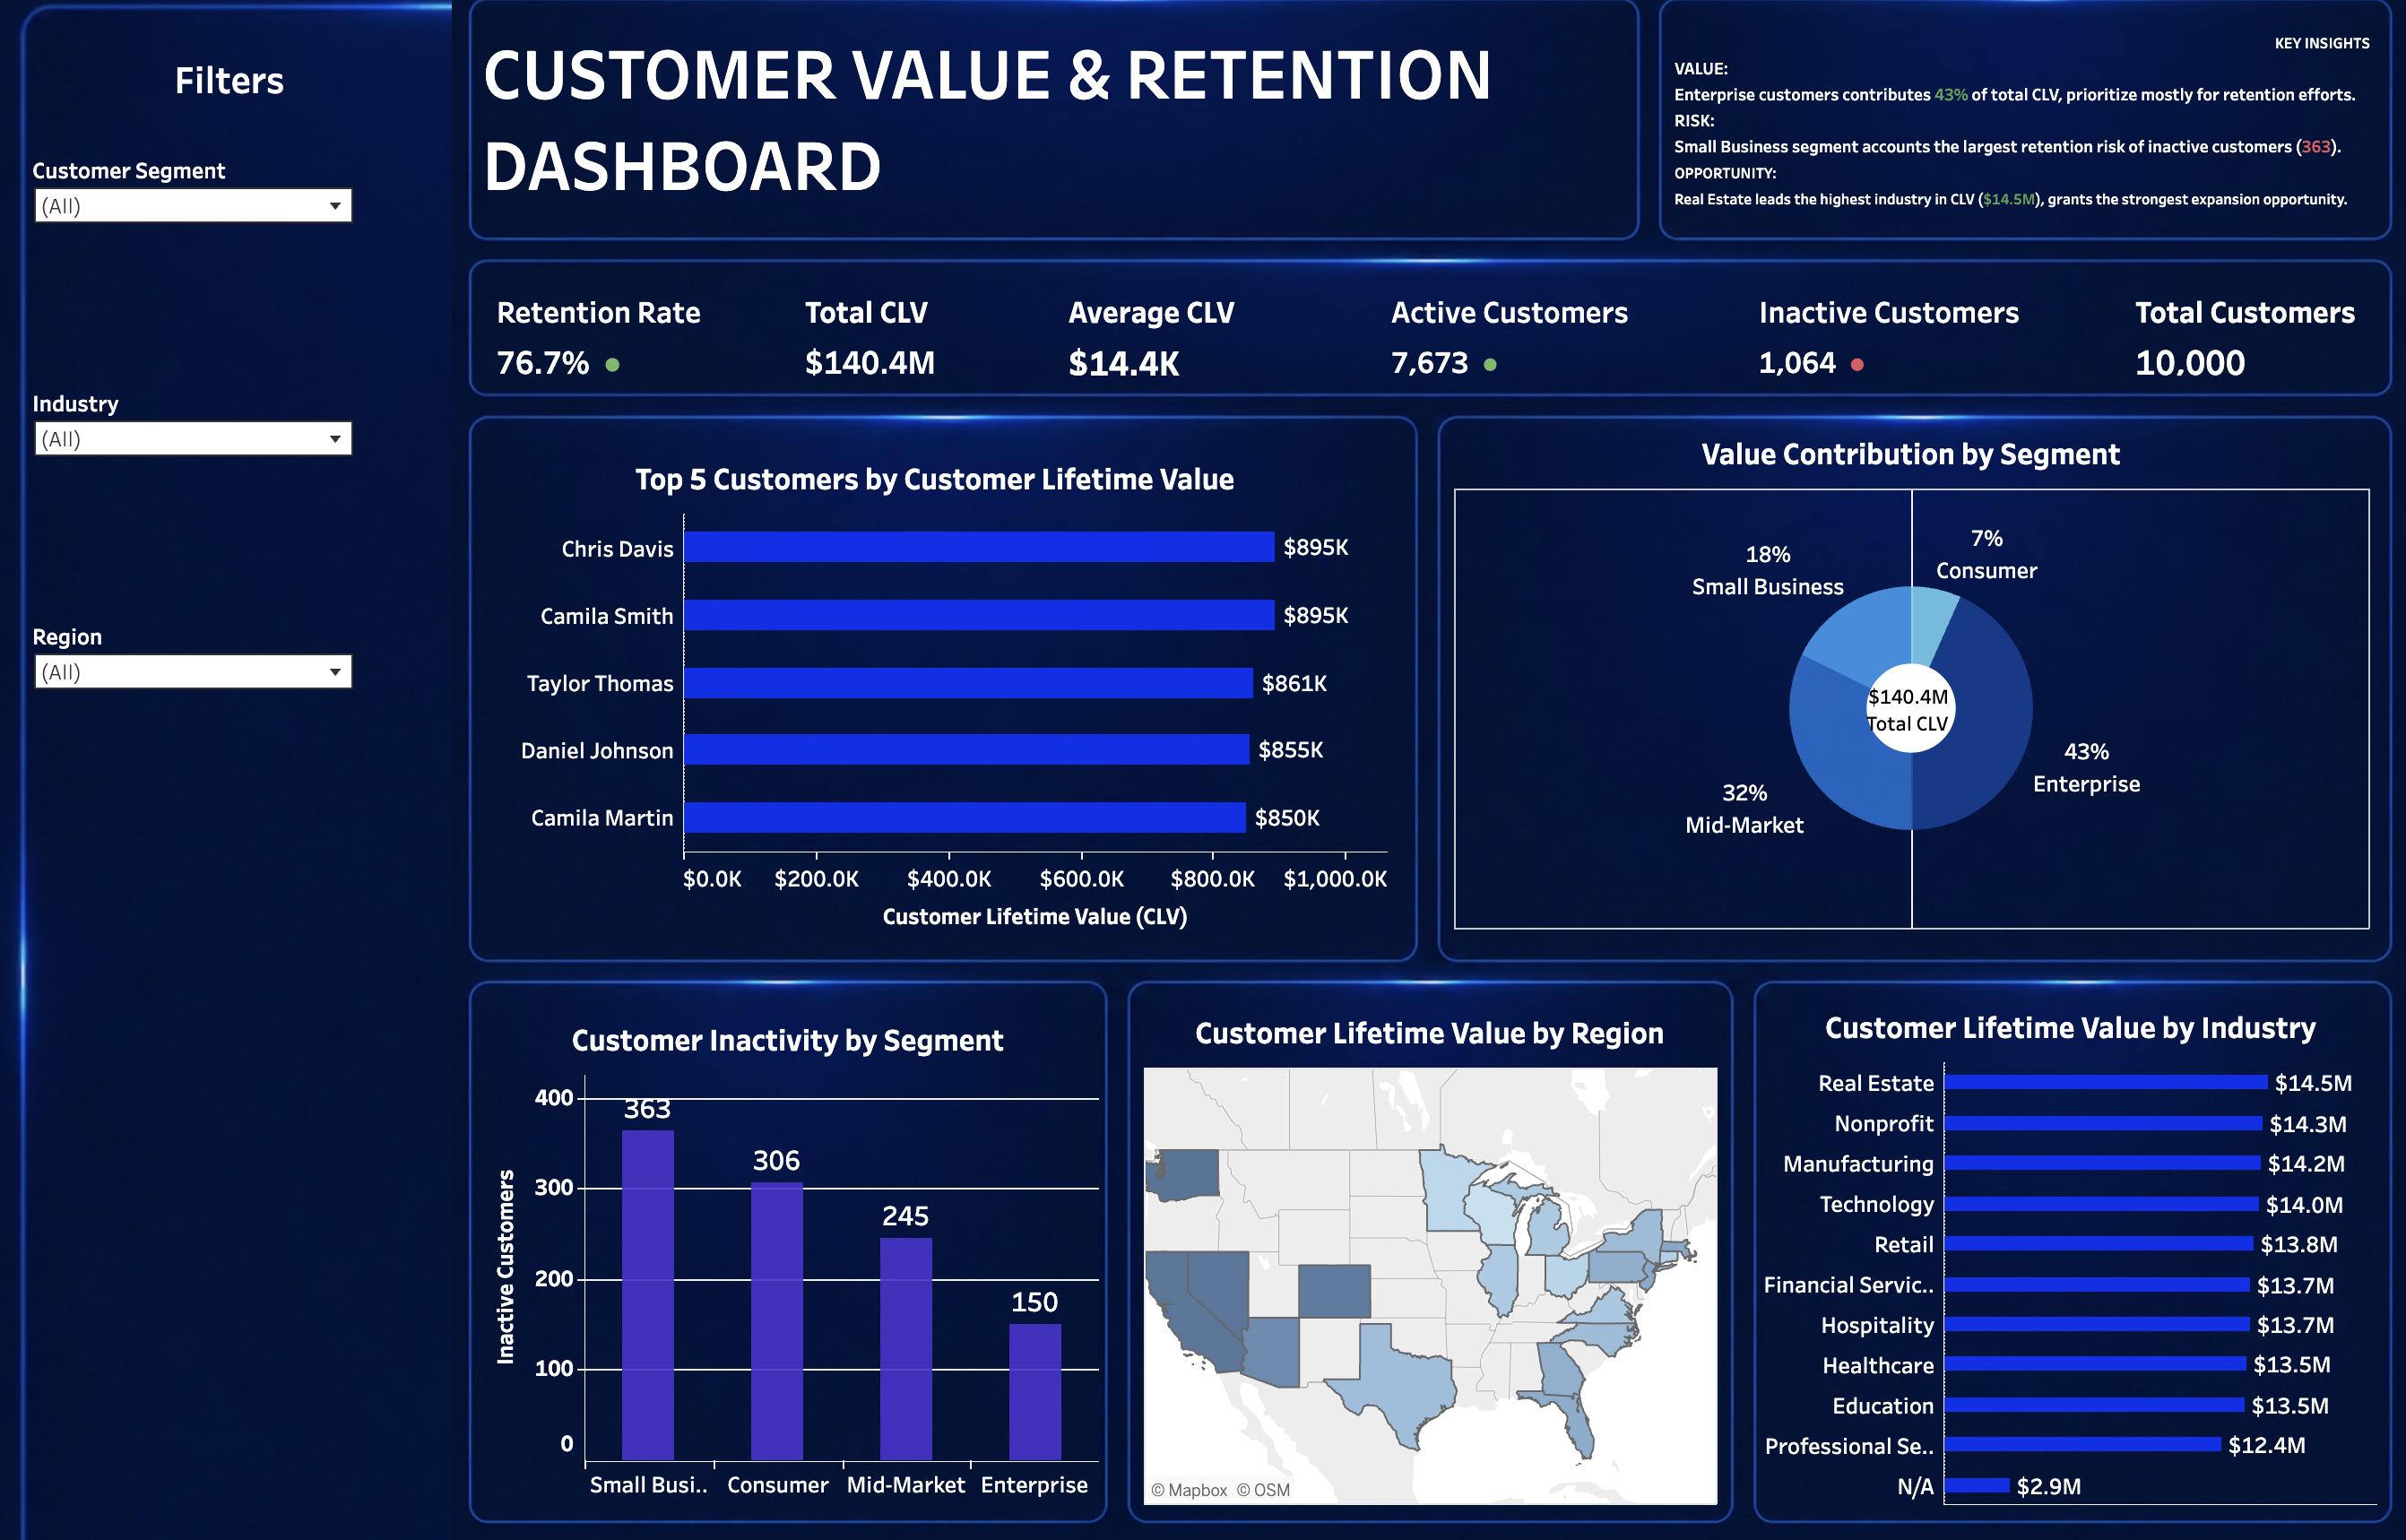

What the dashboard file says about the page in this screenshot:
{"tool":"tableau","page":{"name":"Customer Value & Retention","canvas":[1600,900],"ordinal":0},"visuals":[{"type":"image","param":"Image/tableau_final_layout.png","box":[8,8,1584,884]},{"type":"text","box":[271,31,635,118]},{"type":"text","box":[936,33,388,116]},{"type":"worksheet","title":"Filters","mark":"Automatic","box":[40,48,181,54]},{"type":"filter","title":"Filters","param":"[federated.03wb8wc18vgbth171yzy70w0mdwh].[none:Customer_Segment:nk]","box":[20,110,180,44]},{"type":"worksheet","title":"Retention Rate","mark":"Automatic","box":[275,180,134,54]},{"type":"worksheet","title":"Total CLV","mark":"Text","box":[447,180,180,54]},{"type":"worksheet","title":"Average CLV","mark":"Text","box":[594,180,180,54]},{"type":"worksheet","title":"Active Customers","mark":"Automatic","box":[774,180,180,54]},{"type":"worksheet","title":"Inactive Customers","mark":"Automatic","box":[979,180,154,54]},{"type":"worksheet","title":"Total Customers","mark":"Text","box":[1189,180,180,54]},{"type":"filter","title":"Filters","param":"[federated.03wb8wc18vgbth171yzy70w0mdwh].[none:Industry:nk]","box":[20,240,180,44]},{"type":"worksheet","title":"Value Contribution by Segment","mark":"Pie","cols":["Calculation_3333596001390592","Calculation_3333596001390592"],"box":[813,259,511,284]},{"type":"worksheet","title":"Top 5 Customers by Customer Lifetime Value","mark":"Bar","rows":["Customer_Name"],"cols":["Customer_Lifetime_Value"],"box":[271,273,505,276]},{"type":"filter","title":"Filters","param":"[federated.03wb8wc18vgbth171yzy70w0mdwh].[none:Region:nk]","box":[20,370,180,44]},{"type":"worksheet","title":"Total CLV by Industry","mark":"Automatic","rows":["Industry"],"cols":["Customer_Lifetime_Value"],"box":[986,579,342,285]},{"type":"worksheet","title":"Customer Lifetime Value by Region","mark":"Automatic","box":[640,582,320,282]},{"type":"worksheet","title":"Customer Inactivity by Segment","mark":"Bar","rows":["Customer_ID"],"cols":["Customer_Segment"],"box":[268,586,347,275]}]}

Visuals, with their boxes on the page's 1600x900 design canvas (x1, y1, x2, y2). These are canvas units, not pixel positions in the 2406x1540 screenshot, which may show the page scaled, cropped or inside an application window:
image: {"x1": 8, "y1": 8, "x2": 1592, "y2": 892}
text: {"x1": 271, "y1": 31, "x2": 906, "y2": 149}
text: {"x1": 936, "y1": 33, "x2": 1324, "y2": 149}
"Filters" worksheet: {"x1": 40, "y1": 48, "x2": 221, "y2": 102}
"Filters" filter: {"x1": 20, "y1": 110, "x2": 200, "y2": 154}
"Retention Rate" worksheet: {"x1": 275, "y1": 180, "x2": 409, "y2": 234}
"Total CLV" worksheet (Text marks): {"x1": 447, "y1": 180, "x2": 627, "y2": 234}
"Average CLV" worksheet (Text marks): {"x1": 594, "y1": 180, "x2": 774, "y2": 234}
"Active Customers" worksheet: {"x1": 774, "y1": 180, "x2": 954, "y2": 234}
"Inactive Customers" worksheet: {"x1": 979, "y1": 180, "x2": 1133, "y2": 234}
"Total Customers" worksheet (Text marks): {"x1": 1189, "y1": 180, "x2": 1369, "y2": 234}
"Filters" filter: {"x1": 20, "y1": 240, "x2": 200, "y2": 284}
"Value Contribution by Segment" worksheet (Pie marks): {"x1": 813, "y1": 259, "x2": 1324, "y2": 543}
"Top 5 Customers by Customer Lifetime Value" worksheet (Bar marks): {"x1": 271, "y1": 273, "x2": 776, "y2": 549}
"Filters" filter: {"x1": 20, "y1": 370, "x2": 200, "y2": 414}
"Total CLV by Industry" worksheet: {"x1": 986, "y1": 579, "x2": 1328, "y2": 864}
"Customer Lifetime Value by Region" worksheet: {"x1": 640, "y1": 582, "x2": 960, "y2": 864}
"Customer Inactivity by Segment" worksheet (Bar marks): {"x1": 268, "y1": 586, "x2": 615, "y2": 861}
